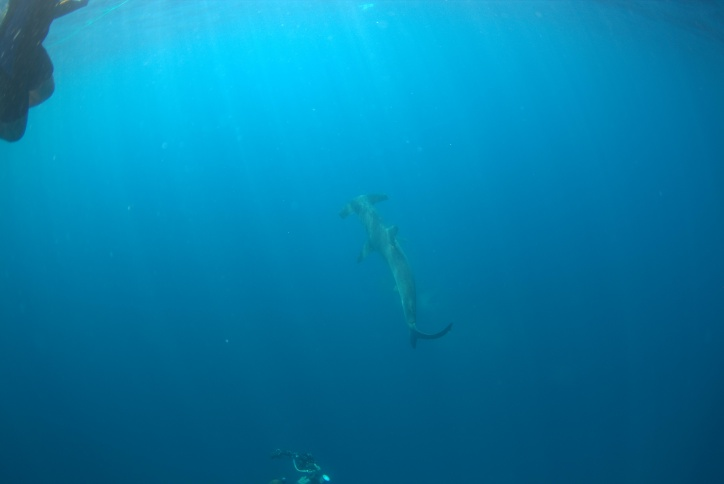Hammer: (311, 170, 483, 373)
